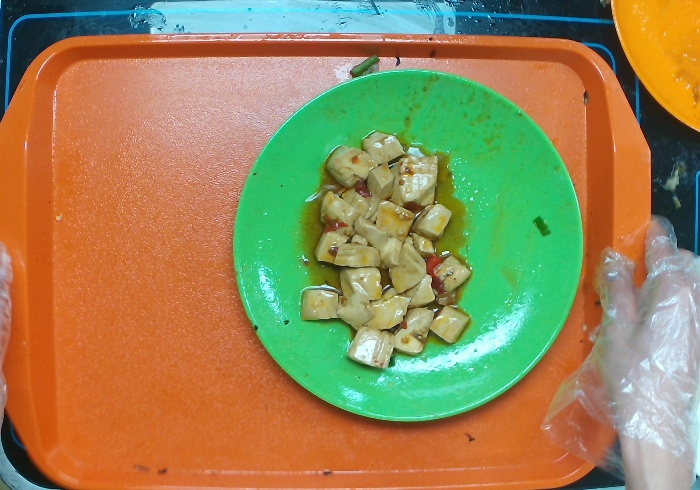HZYJPL-Lv_Se_Yuan_Pan: (229, 64, 584, 422)
